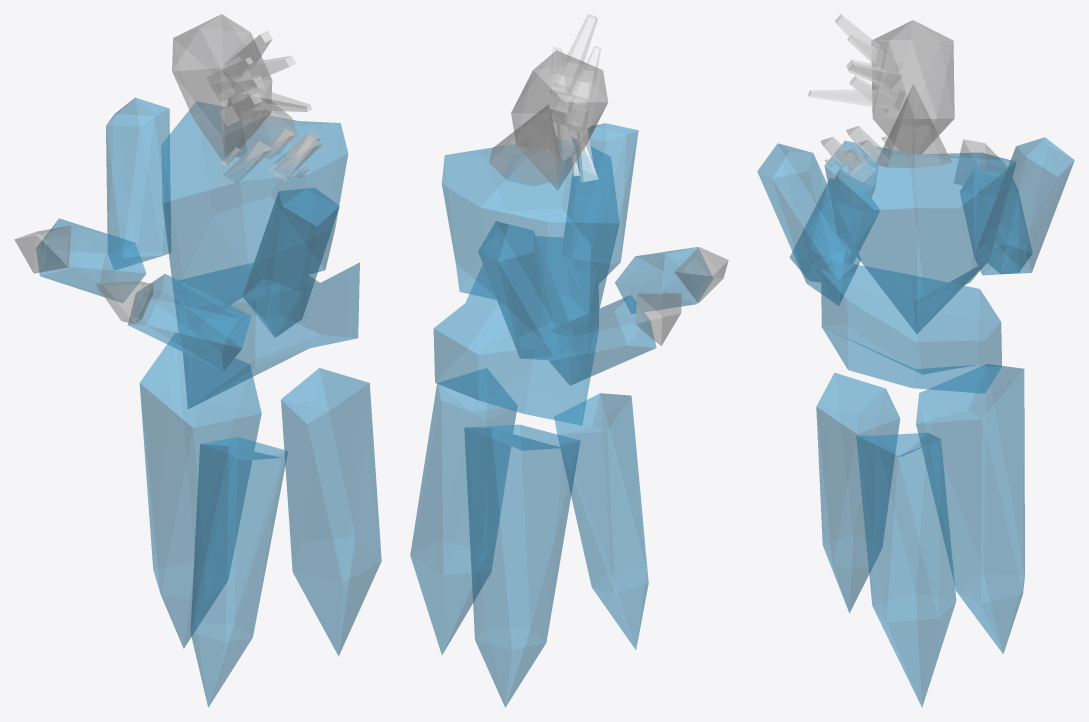
File: ghostDistanceAttack14.obj
3 renders of one model, left to right at view 1: azimuth 30°, elevation 25°; view 2: azimuth 150°, elevation 25°; view 3: azimuth 270°, elevation 25°, orthographic. The views are drawn at different scales.
Parts seen in each view (by area): view 1: Cube.001_Cube.007, Icosphere.020, Icosphere.019, Icosphere.018, Cube_Cube.007, Icosphere.007_Icosphere.006, Icosphere.003_Icosphere.007, Icosphere.005_Icosphere.007, Icosphere.006_Icosphere.006, Icosphere.008_Icosphere.006, Cone_Cone.007, Cube.003_Cube.007 (+10 smaller); view 2: Cube.001_Cube.007, Icosphere.020, Icosphere.019, Cube_Cube.007, Icosphere.018, Icosphere.003_Icosphere.007, Icosphere.007_Icosphere.006, Icosphere.005_Icosphere.007, Icosphere.008_Icosphere.006, Icosphere.006_Icosphere.006, Cone_Cone.007, Cube.003_Cube.007 (+5 smaller); view 3: Cube.001_Cube.007, Icosphere.020, Icosphere.019, Cube_Cube.007, Icosphere.018, Icosphere.003_Icosphere.007, Icosphere.005_Icosphere.007, Icosphere.007_Icosphere.006, Icosphere.006_Icosphere.006, Icosphere.008_Icosphere.006, Cone_Cone.007, Cube.007_Cube.006 (+5 smaller).
Part boxes in pixels (x1,y1,x2,y2): Cube.001_Cube.007: (161, 102, 348, 336); Icosphere.020: (139, 333, 261, 648); Icosphere.019: (281, 368, 381, 655); Icosphere.018: (190, 437, 287, 707); Cube_Cube.007: (180, 262, 359, 408); Icosphere.007_Icosphere.006: (106, 97, 170, 270); Icosphere.003_Icosphere.007: (172, 14, 272, 160); Icosphere.005_Icosphere.007: (242, 188, 339, 337); Icosphere.006_Icosphere.006: (128, 274, 251, 371); Icosphere.008_Icosphere.006: (36, 218, 146, 302); Cone_Cone.007: (222, 98, 297, 157); Cube.003_Cube.007: (14, 225, 71, 273); Cube.001_Cube.007: (441, 137, 619, 359); Icosphere.020: (464, 424, 580, 707); Icosphere.019: (410, 368, 517, 654); Cube_Cube.007: (433, 236, 598, 425); Icosphere.018: (554, 393, 648, 649); Icosphere.003_Icosphere.007: (511, 50, 607, 190); Icosphere.007_Icosphere.006: (478, 221, 573, 360); Icosphere.005_Icosphere.007: (562, 123, 638, 282); Icosphere.008_Icosphere.006: (548, 295, 656, 385); Icosphere.006_Icosphere.006: (615, 247, 712, 313); Cone_Cone.007: (489, 104, 560, 186); Cube.003_Cube.007: (636, 293, 681, 345); Cube.001_Cube.007: (824, 140, 1016, 333); Icosphere.020: (916, 364, 1024, 653); Icosphere.019: (856, 432, 956, 707); Cube_Cube.007: (821, 262, 1001, 393); Icosphere.018: (816, 373, 900, 612); Icosphere.003_Icosphere.007: (871, 20, 954, 154); Icosphere.005_Icosphere.007: (757, 143, 860, 305); Icosphere.007_Icosphere.006: (976, 137, 1074, 274); Icosphere.006_Icosphere.006: (789, 178, 879, 282); Icosphere.008_Icosphere.006: (960, 171, 1032, 275); Cone_Cone.007: (875, 84, 951, 167); Cube.007_Cube.006: (808, 89, 905, 110).
Size of the model in its own units: 21.55 by 44.64 by 20.09.
